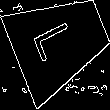L_NE: (34, 18, 86, 67)
